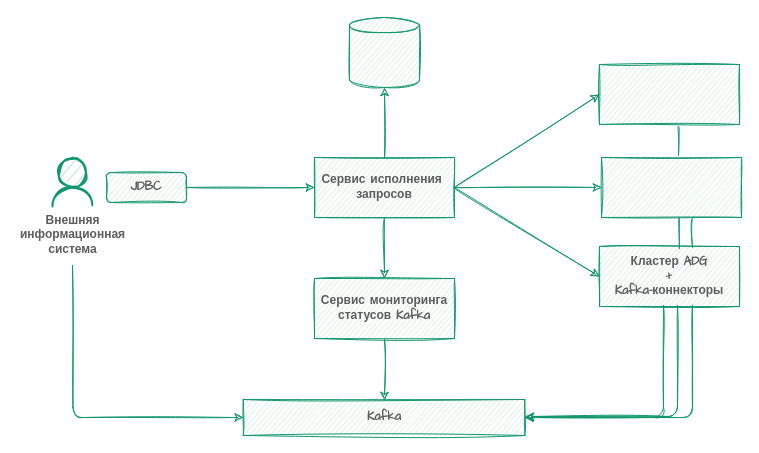
The diagram is 759 pixels wide and 453 high, and some of its shapes have lost their labels. Each missing label, with the centre of its shape:
"Service DB Zookeeper" belongs at (x=384, y=52).
"Кластер ADB + Kafka-коннекторы" belongs at (x=669, y=94).
"Кластер ADQM + Kafka-коннекторы" belongs at (x=671, y=187).
